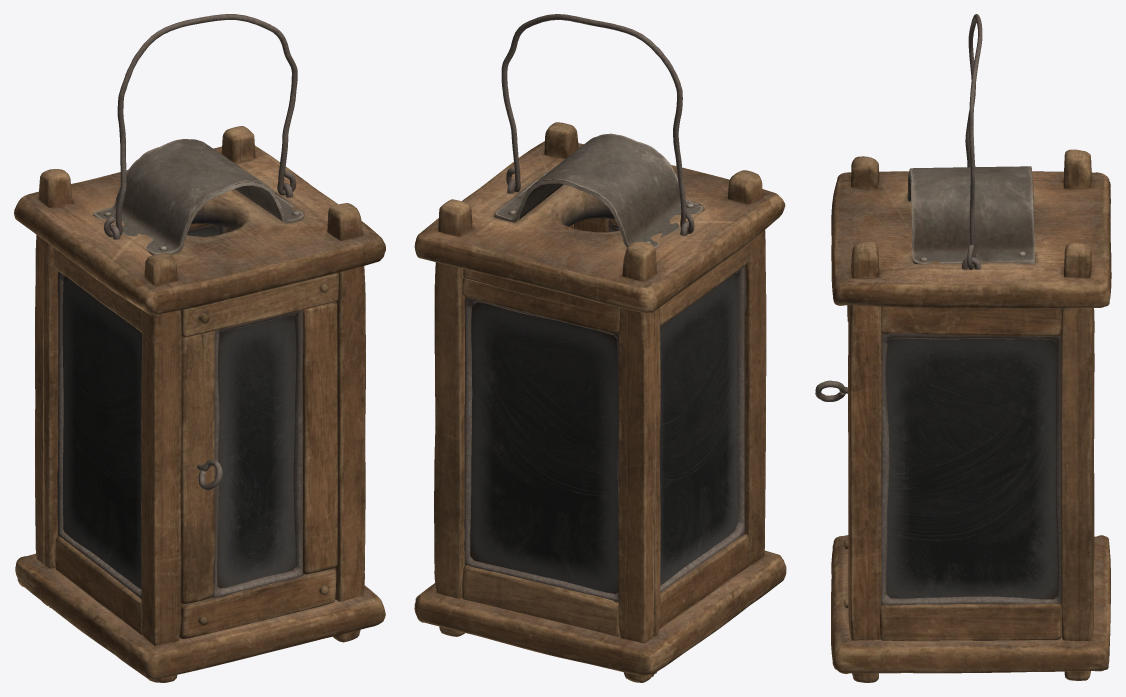
File: wooden_lantern_01.glb
3 views of the same model, side by side, from view 1: azimuth 30°, elevation 25°; view 2: azimuth 150°, elevation 25°; view 3: azimuth 270°, elevation 25° (orthographic).
Parts seen in each view (by area): view 1: wooden_lantern_01, wooden_lantern_01_door, wooden_lantern_01_handle; view 2: wooden_lantern_01, wooden_lantern_01_handle, wooden_lantern_01_door; view 3: wooden_lantern_01, wooden_lantern_01_handle, wooden_lantern_01_door.
Part boxes in pixels (x1,y1,x2,y2): wooden_lantern_01: [14, 126, 385, 682]; wooden_lantern_01_door: [179, 273, 338, 638]; wooden_lantern_01_handle: [104, 14, 297, 237]; wooden_lantern_01: [414, 122, 786, 682]; wooden_lantern_01_handle: [501, 14, 694, 233]; wooden_lantern_01_door: [574, 218, 619, 232]; wooden_lantern_01: [831, 149, 1111, 682]; wooden_lantern_01_handle: [965, 14, 982, 269]; wooden_lantern_01_door: [815, 305, 848, 608].
Size of the model in its own units: 0.2234 by 0.5309 by 0.236.
Materials: 2 (2 with a texture image).
